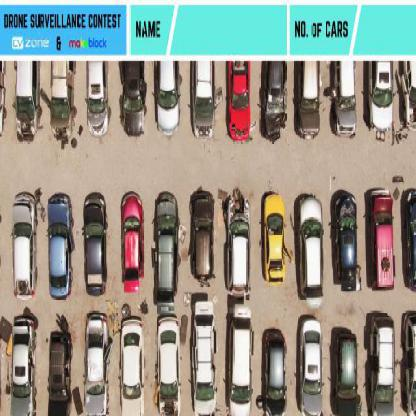car: (228, 304, 255, 415), (154, 316, 184, 415), (224, 189, 251, 297), (298, 196, 324, 308), (12, 191, 38, 298), (47, 194, 74, 297), (9, 319, 37, 415), (192, 299, 215, 414), (119, 190, 145, 291), (82, 194, 108, 294), (331, 329, 361, 415), (85, 311, 110, 413), (369, 190, 394, 290), (369, 313, 394, 413), (188, 186, 215, 278), (336, 191, 360, 293), (300, 317, 324, 414), (155, 195, 175, 309), (263, 194, 286, 287), (119, 61, 146, 138), (264, 331, 288, 415), (48, 331, 70, 415), (265, 64, 288, 144), (50, 62, 74, 138), (86, 61, 110, 137), (16, 63, 38, 144), (229, 64, 251, 144), (193, 63, 216, 139), (335, 63, 358, 139), (122, 319, 143, 401), (299, 63, 321, 141), (157, 61, 180, 132), (371, 65, 394, 135), (401, 309, 416, 415), (403, 188, 415, 285), (402, 62, 415, 132)
